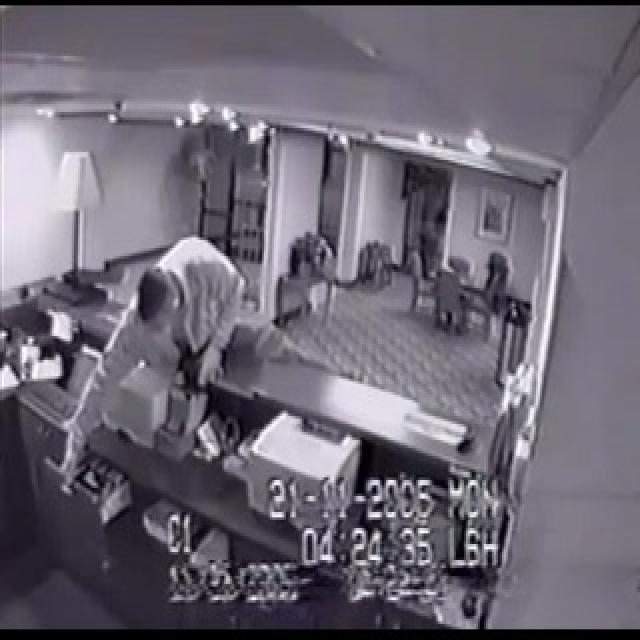thief: (61, 242, 363, 506)
